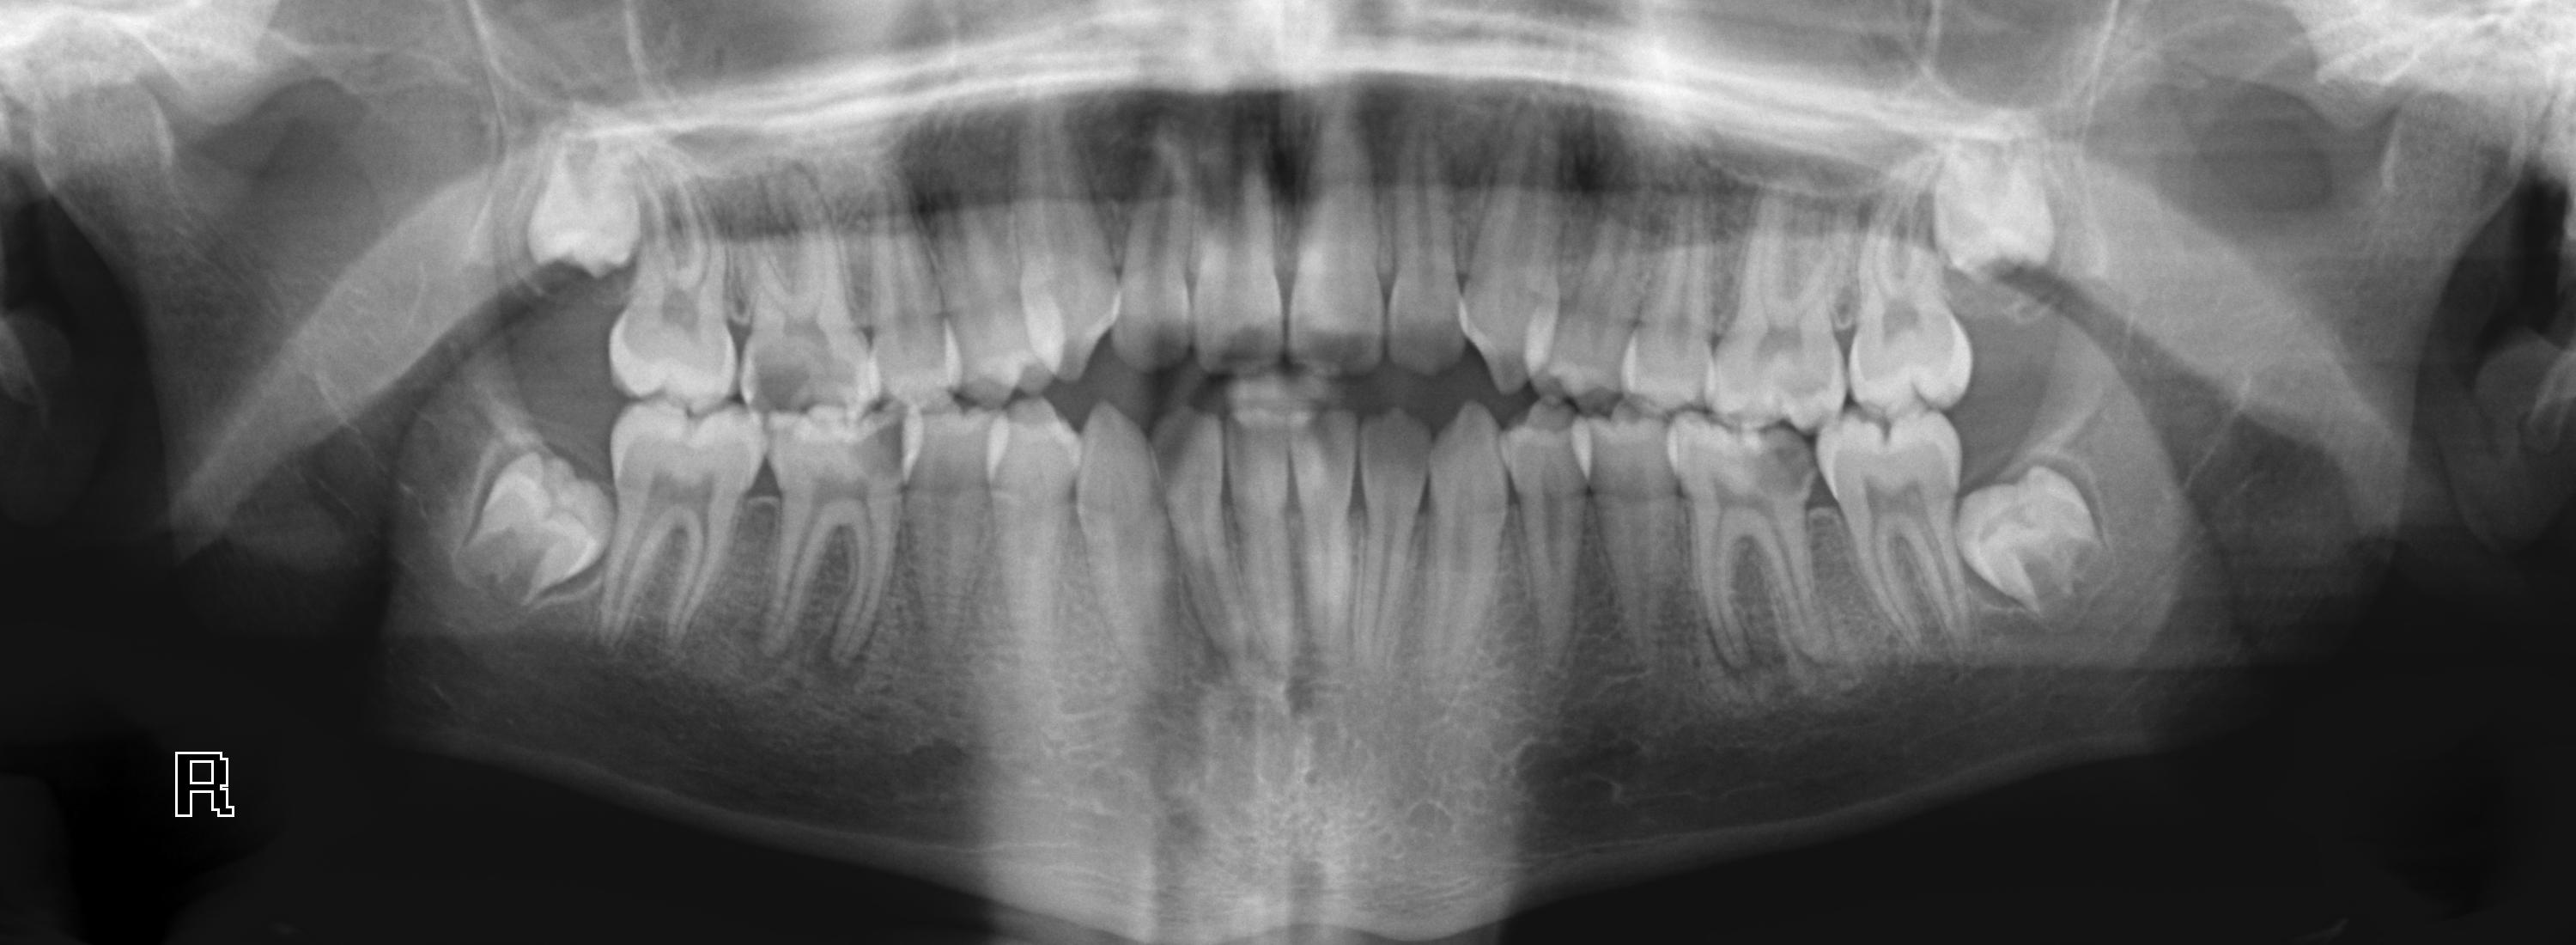Çürük Bölgesi: (1748, 436, 1822, 509), (1779, 362, 1850, 432), (741, 345, 798, 429), (856, 419, 917, 480)
